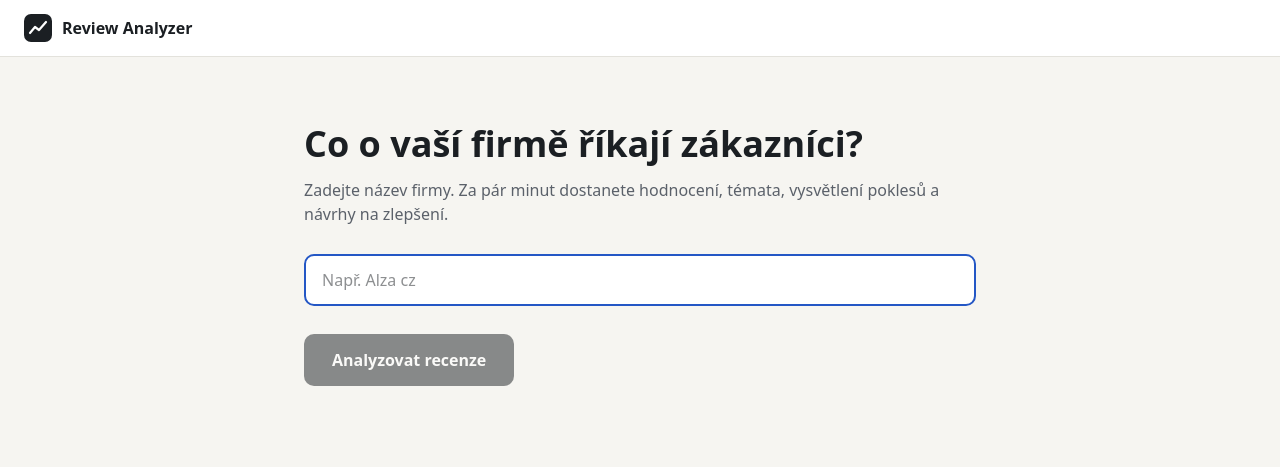
Test: choosing one Place › fills the input with the choice, closes the list and enables the button
This screenshot has width=1280, height=467.
Type "kav" into the search field.
click(640, 280); type("kav")  # box [304,254,976,306]
Wait 400 ms
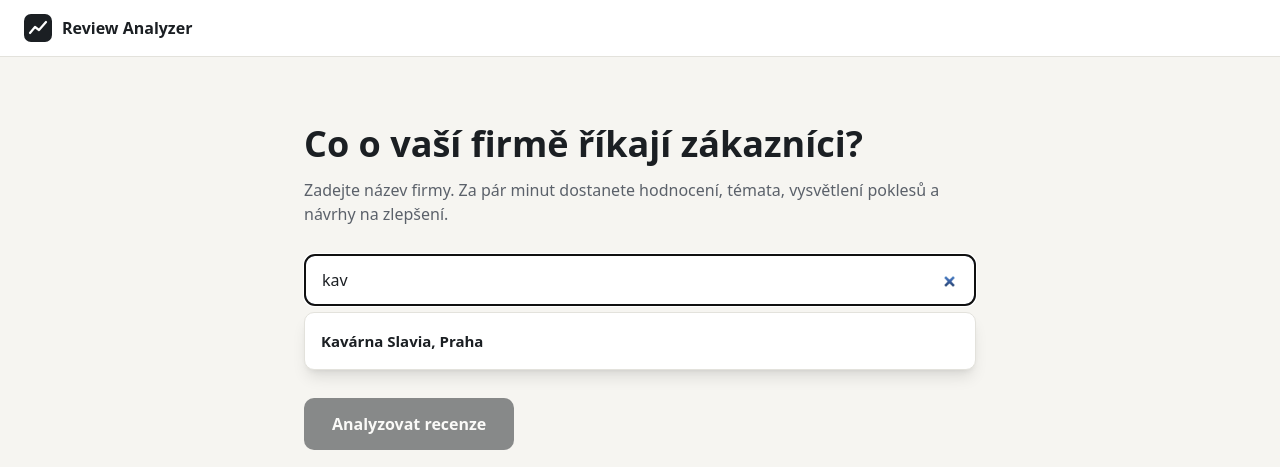
Click the button "Kavárna Slavia, Praha".
click(402, 341)  # box [305,313,975,369]
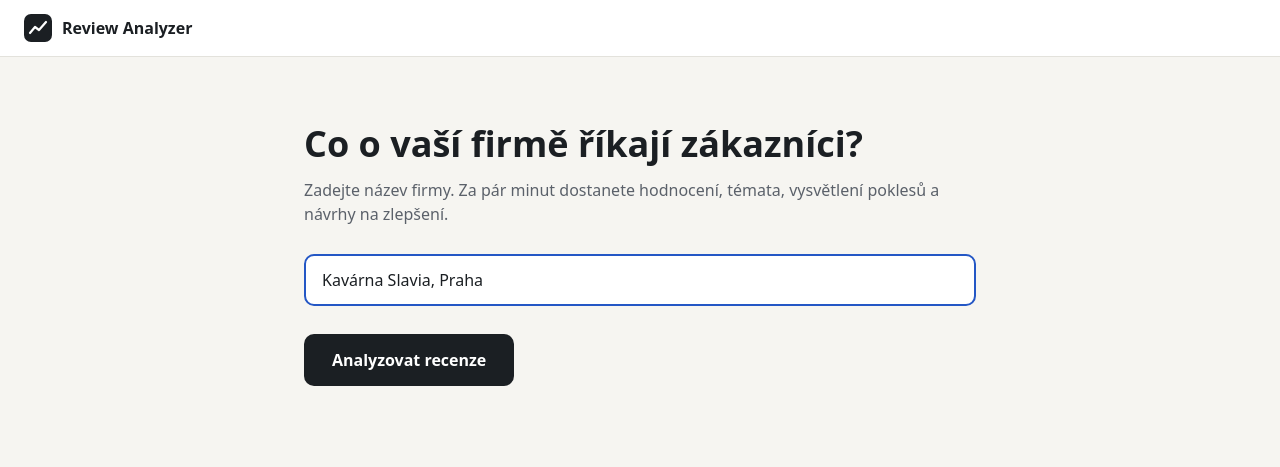
Now the search field holds "Kavárna Slavia, Praha", box [304,254,976,306]
Now the list is gone
Now the button "Analyzovat recenze" is enabled, box [304,334,514,386]
